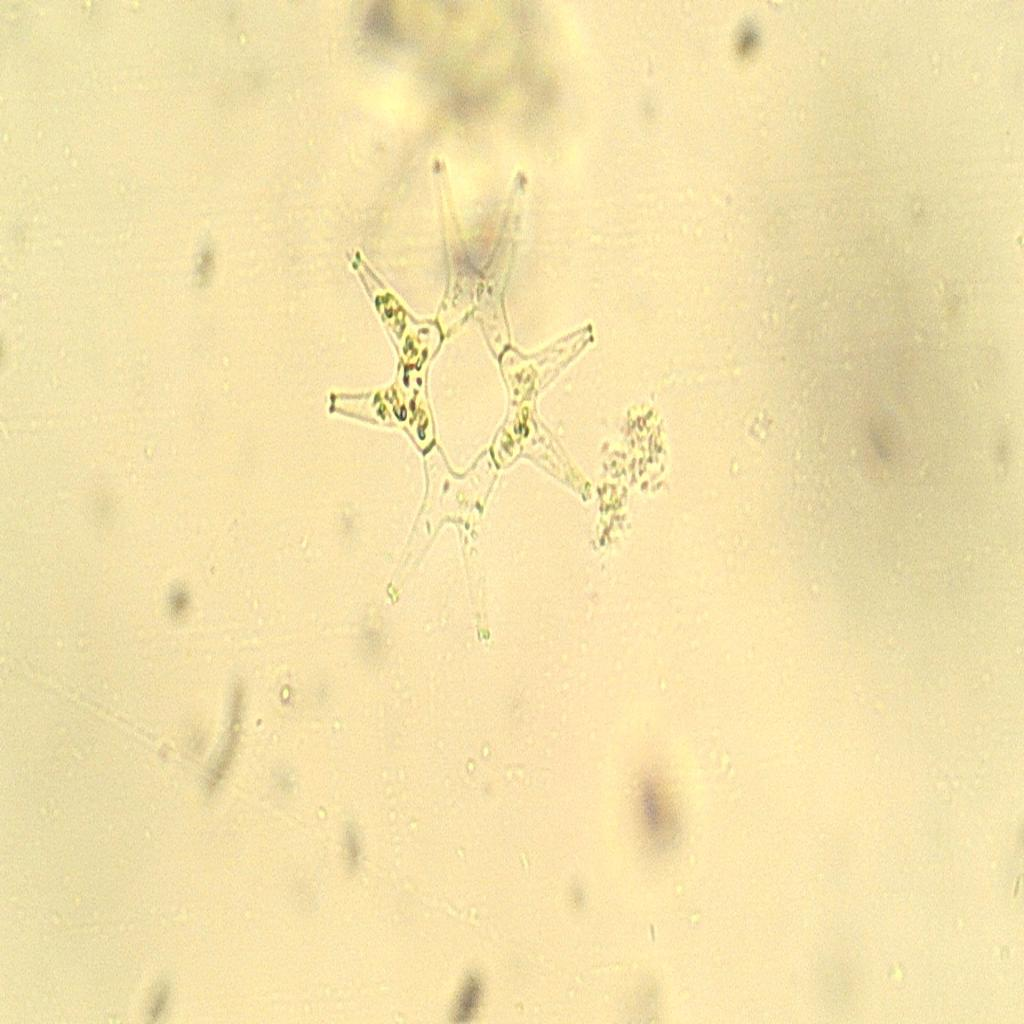Pediastrum_75TH: (321, 140, 613, 684)
